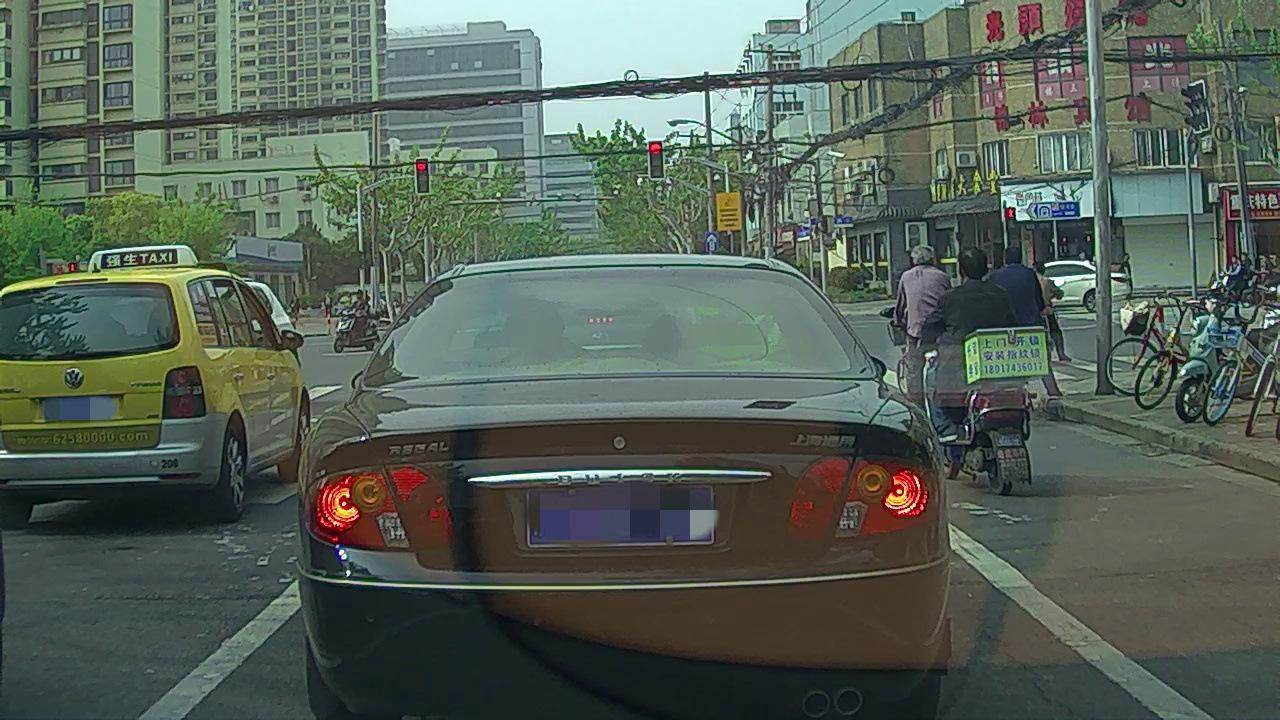traffic_light: (649, 142, 664, 179), (415, 159, 429, 193)
